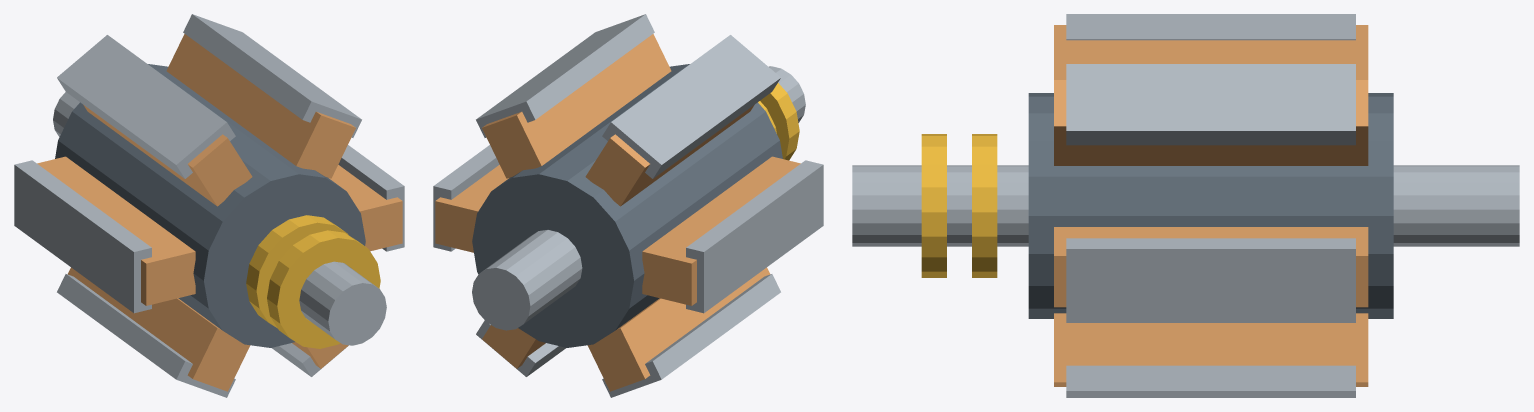
File: ENERGY-023.glb
The picture shows the model from 3 angles, left to right: view 1: azimuth 30°, elevation 25°; view 2: azimuth 150°, elevation 25°; view 3: azimuth 270°, elevation 25°; orthographic projection. The views are drawn at different scales.
Visible parts, largest first — view 1: ENERGY-023; view 2: ENERGY-023; view 3: ENERGY-023.
Boxes of the visible parts, x1=… form: ENERGY-023: x1=14, y1=14, x2=404, y2=397; ENERGY-023: x1=433, y1=14, x2=823, y2=397; ENERGY-023: x1=852, y1=14, x2=1519, y2=397.
Size of the model in its own units: 0.6012 by 0.5857 by 1.06.
